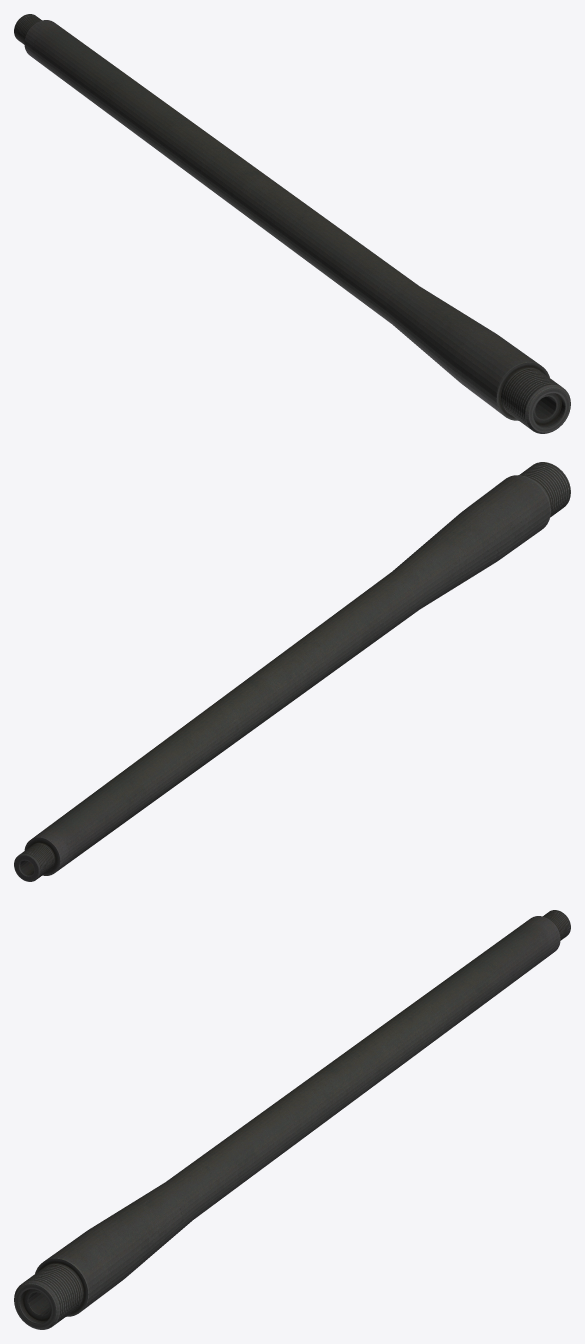
3 renders of one model, top to bottom at view 1: azimuth 30°, elevation 25°; view 2: azimuth 150°, elevation 25°; view 3: azimuth 330°, elevation 25°, orthographic.
Parts seen in each view (by area): view 1: TW_5d2703038abbc3105103d94c_PZ_Import; view 2: TW_5d2703038abbc3105103d94c_PZ_Import; view 3: TW_5d2703038abbc3105103d94c_PZ_Import.
Boxes of the visible parts, <box> form: TW_5d2703038abbc3105103d94c_PZ_Import: <box>14,14,570,433</box>; TW_5d2703038abbc3105103d94c_PZ_Import: <box>14,462,570,881</box>; TW_5d2703038abbc3105103d94c_PZ_Import: <box>14,910,570,1329</box>.
Size of the model in its own units: 0.0175 by 0.2921 by 0.0175.
1 material, 1 textured.
